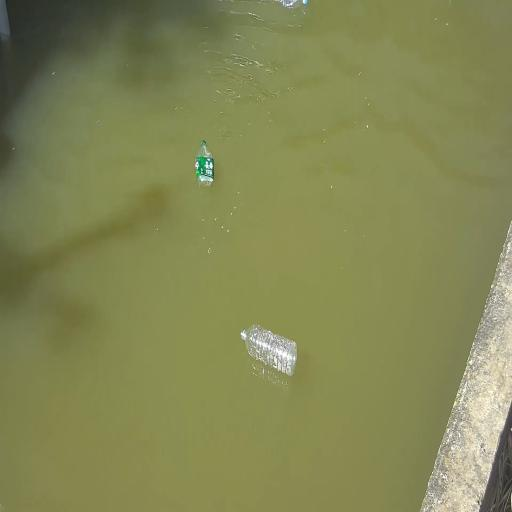plastic: (239, 324, 299, 378), (195, 138, 215, 192), (275, 0, 311, 13)
